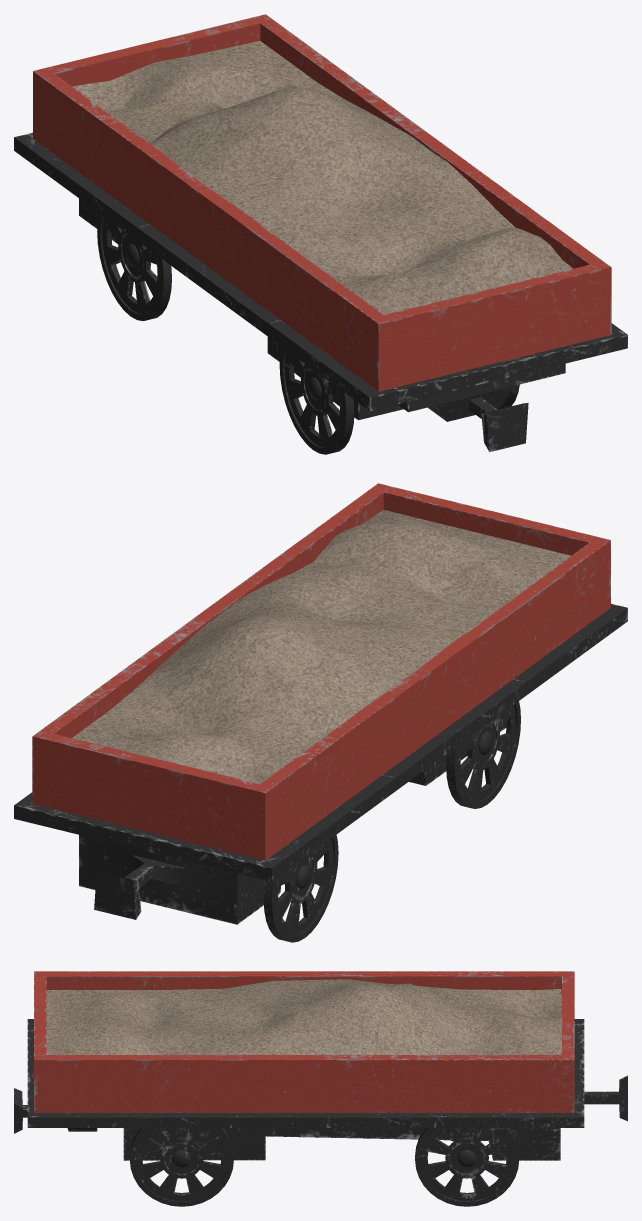
File: wagon_coal.glb
The picture shows the model from 3 angles, top to bottom: view 1: azimuth 30°, elevation 25°; view 2: azimuth 150°, elevation 25°; view 3: azimuth 270°, elevation 25°; orthographic projection. The views are drawn at different scales.
Parts seen in each view (by area): view 1: Cube.002, Cube.001, Plane.004, Circle.015, Circle.017; view 2: Cube.002, Cube.001, Plane.004, Circle.017, Circle.015; view 3: Cube.001, Cube.002, Plane.004, Circle.014, Circle.016.
Boxes of the visible parts, box(x1,y1,x2,y2) form: Cube.002: box(72, 41, 573, 314); Cube.001: box(33, 14, 611, 391); Plane.004: box(14, 132, 627, 452); Circle.015: box(279, 347, 354, 454); Circle.017: box(97, 213, 171, 320); Cube.002: box(72, 510, 571, 783); Cube.001: box(32, 483, 610, 860); Plane.004: box(14, 603, 627, 924); Circle.017: box(263, 835, 338, 942); Circle.015: box(446, 701, 520, 808); Cube.001: box(34, 971, 574, 1112); Cube.002: box(46, 979, 561, 1054); Plane.004: box(14, 1019, 627, 1160); Circle.014: box(129, 1128, 233, 1206); Circle.016: box(415, 1128, 519, 1206).
Bounding box in the file's own units: 155 × 140 × 409.
Materials: 1 (1 with a texture image).
